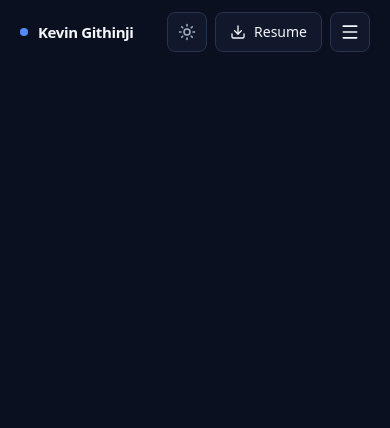
Test case: Header › closes the mobile menu with Escape
The width and height of the screenshot is (390, 428).
Click the button named "Open menu": (350,32) [330,12,370,52]
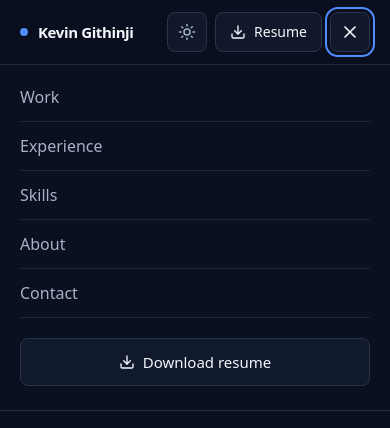
Press Escape
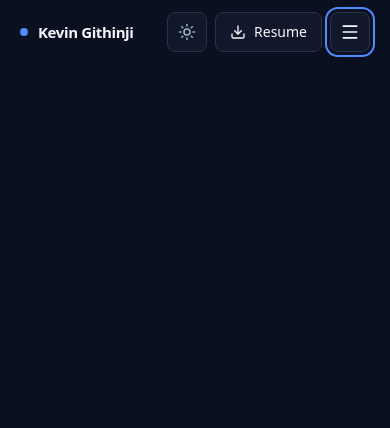
Now the navigation bar "Mobile" is gone
